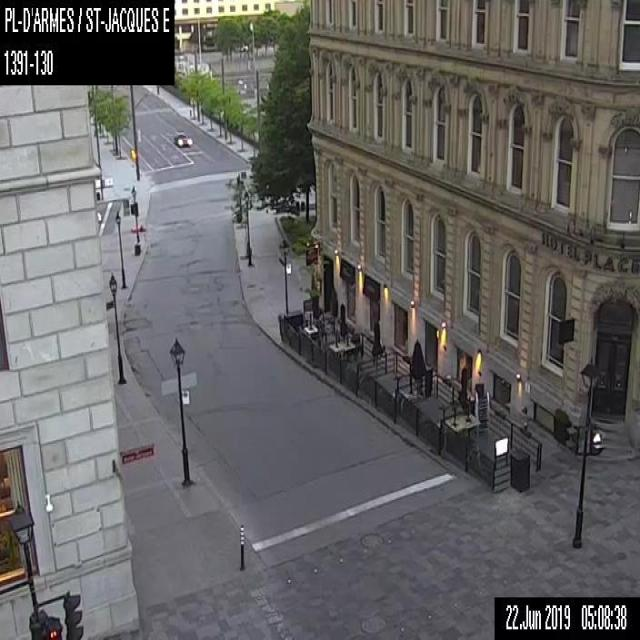vehicle: (174, 130, 192, 146)
